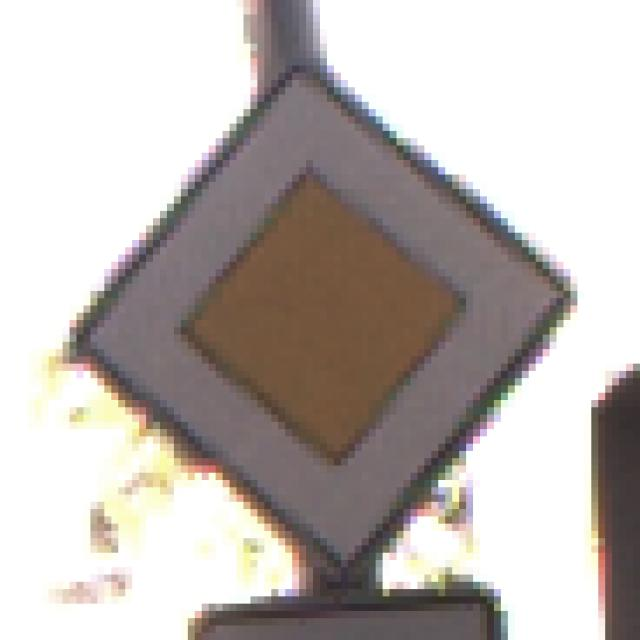Main Road: (64, 52, 585, 590)
